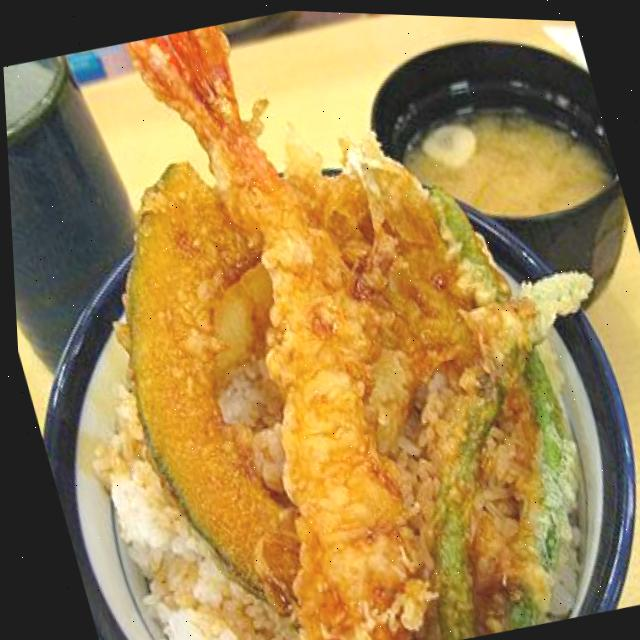汤锅炖物: (327, 10, 625, 252)
熟制海鲜: (3, 66, 640, 640)
